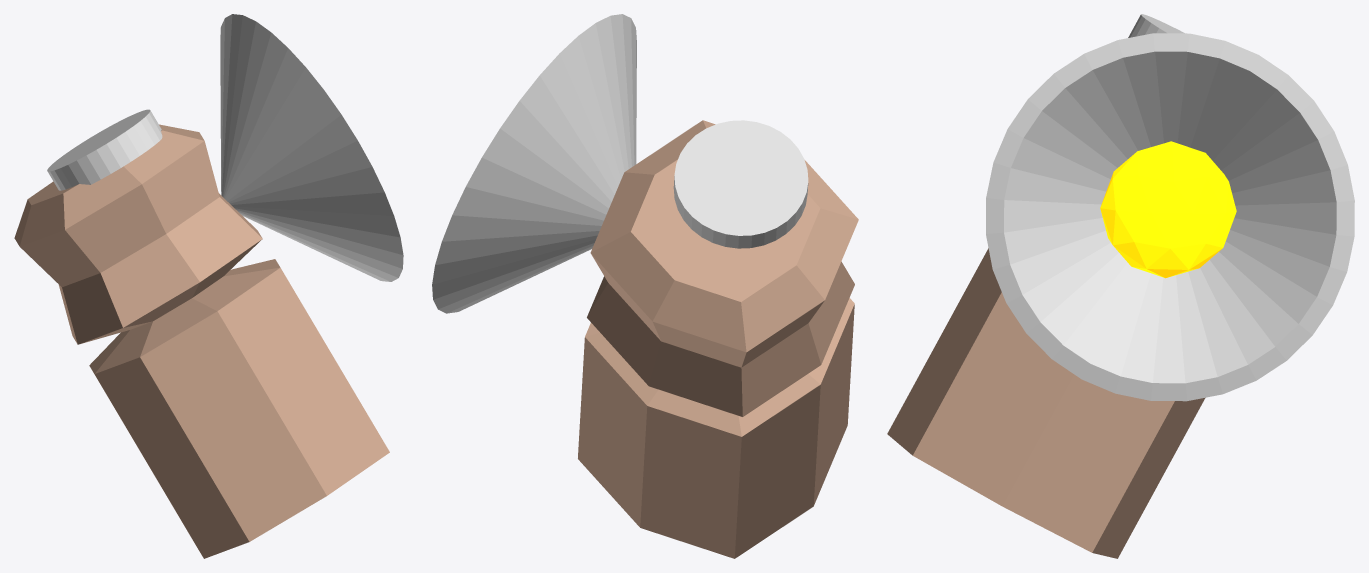
File: LightItem.fbx
The picture shows the model from 3 angles, left to right: view 1: azimuth 30°, elevation 25°; view 2: azimuth 150°, elevation 25°; view 3: azimuth 270°, elevation 25°; orthographic projection. The views are drawn at different scales.
Parts seen in each view (by area): view 1: Cube.001, Cone, Cylinder.001; view 2: Cube.001, Cone, Cylinder.001; view 3: Cone, Cube.001, Icosphere, Cylinder.001.
Part boxes in pixels (x1,y1,x2,y2): Cube.001: (14,124,389,558); Cone: (220,14,403,281); Cylinder.001: (47,109,162,190); Cube.001: (578,120,858,558); Cone: (432,14,636,313); Cylinder.001: (673,120,808,248); Cone: (986,33,1354,401); Cube.001: (887,248,1205,558); Icosphere: (1100,141,1236,278); Cylinder.001: (1128,14,1184,37).
Bounding box in the file's own units: 43.81 × 61.38 × 46.39.
